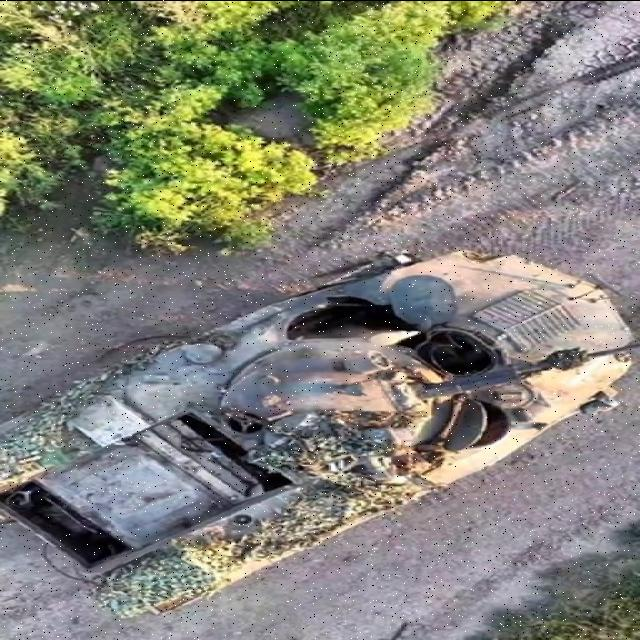APC-IFV: (2, 247, 636, 608)
